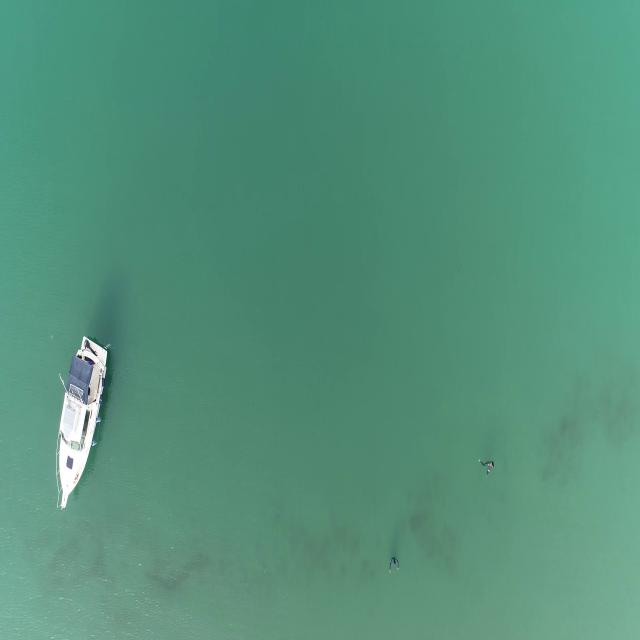boat: (50, 335, 111, 509)
person: (478, 455, 494, 478), (387, 555, 401, 577)
